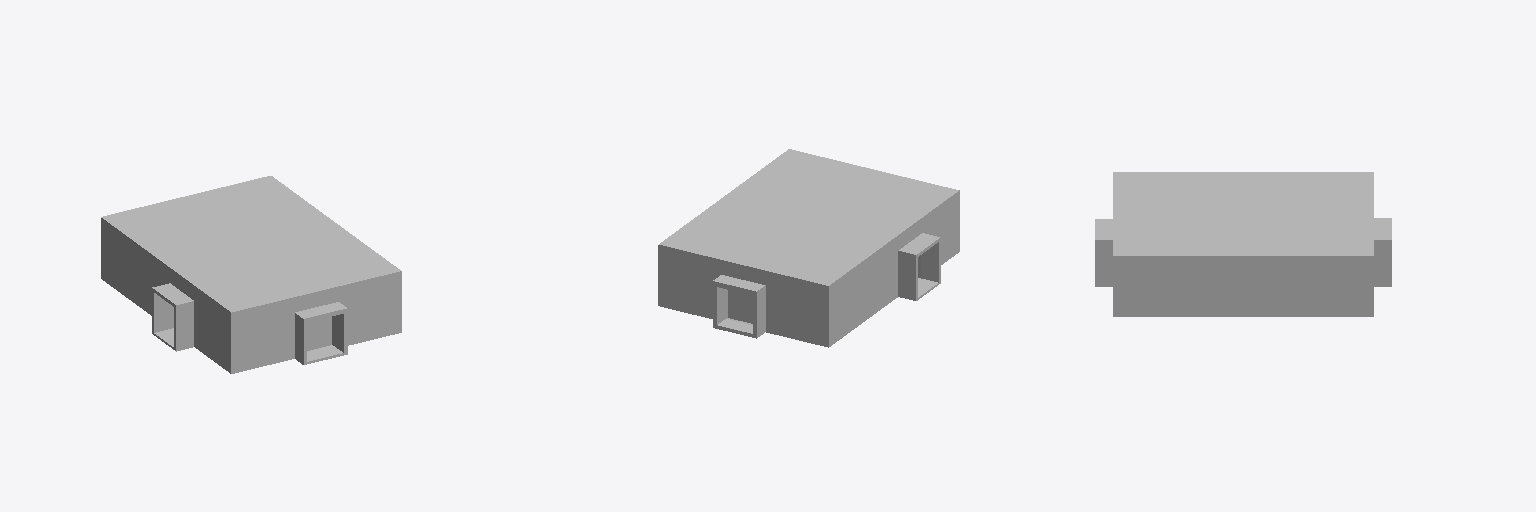
The model's file is RoomTwo.obj.
3 renders of one model, left to right at view 1: azimuth 30°, elevation 25°; view 2: azimuth 150°, elevation 25°; view 3: azimuth 270°, elevation 25°, orthographic.
Parts seen in each view (by area): view 1: Cube; view 2: Cube; view 3: Cube.
Part boxes in pixels (x1,y1,x2,y2): Cube: (101, 176, 401, 373); Cube: (658, 149, 959, 347); Cube: (1095, 172, 1391, 316).
Size of the model in its own units: 8.89 by 2.08 by 11.27.